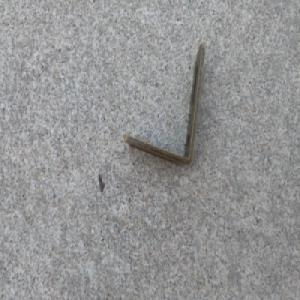MetalPart: (124, 42, 207, 169)
